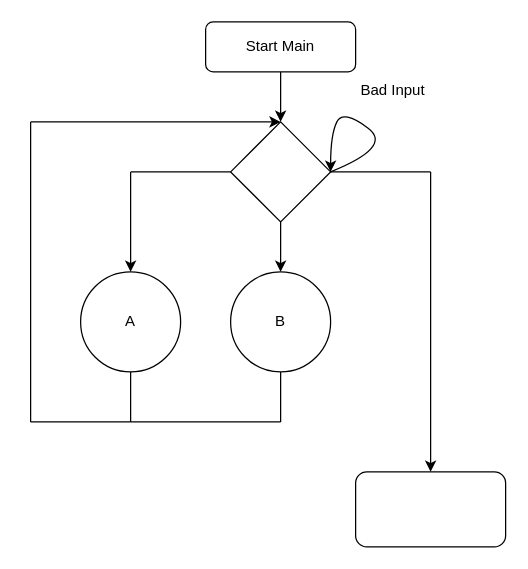
Some shapes in this 528 by 569 pixel diagram are drawn without their labels. The shapes that lost their labels are listed below. From the top down, each one's centre as x and y in pixels, then its label:
At (x=280, y=171): "Menu".
At (x=430, y=509): "End Main".
